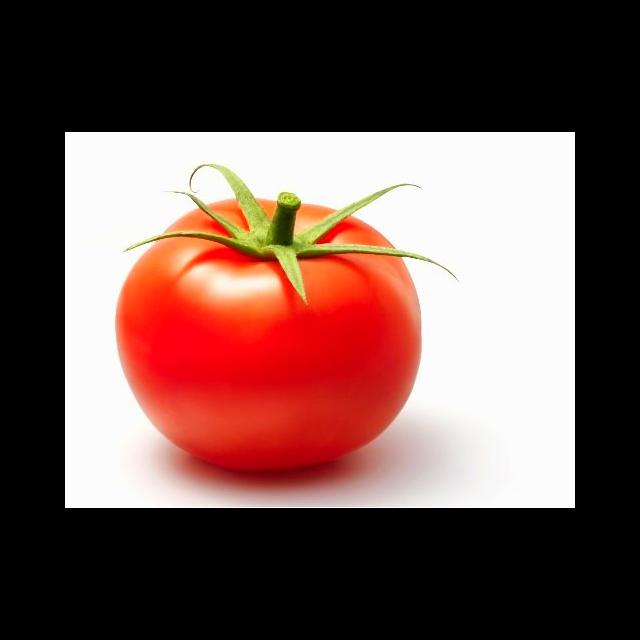tomato: (116, 167, 421, 468)
